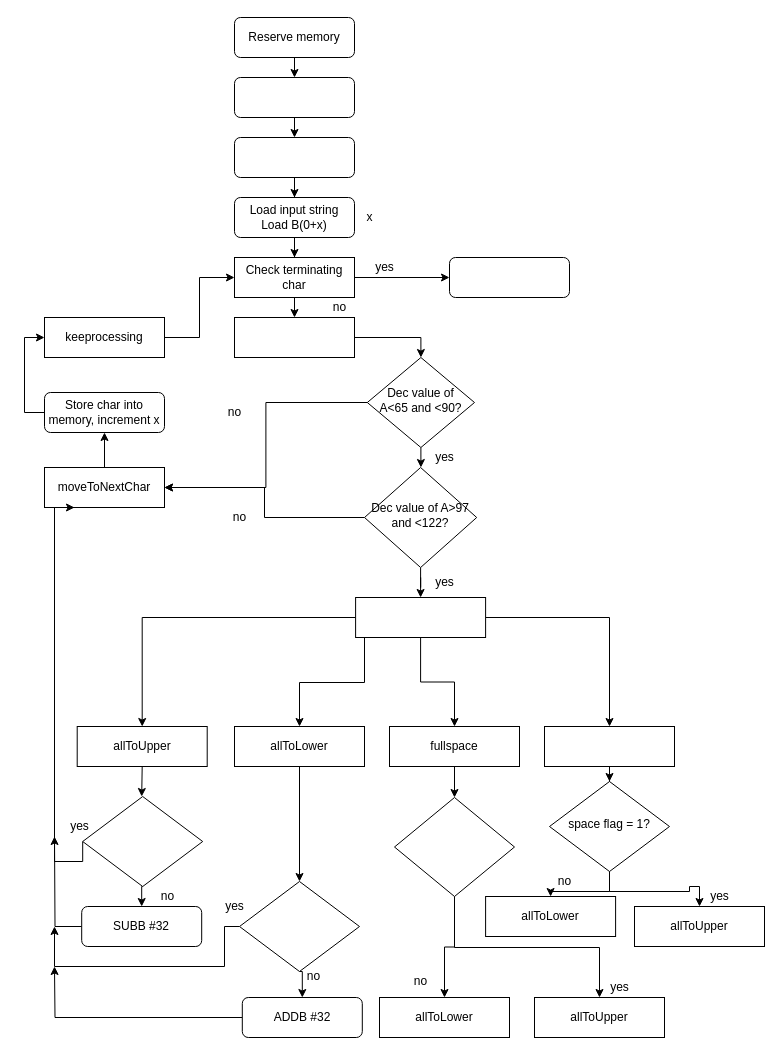
The diagram is 782 pixels wide and 1055 high, and some of its shapes have lost their labels. The centre of each missing label's shape, as x and y in pixels:
"ApplyRequiredFunction" belongs at point (420, 617).
"capspace" belongs at point (609, 746).
"Check if alpha" belongs at point (294, 337).
"Dec value of A<=90?" belongs at point (142, 841).
"Dec value of A>90?" belongs at point (299, 926).
"Definitions" belongs at point (294, 97).
"exit" belongs at point (509, 277).
"fullstop and space flags = 1?" belongs at point (454, 846).
"Start" belongs at point (294, 157).
